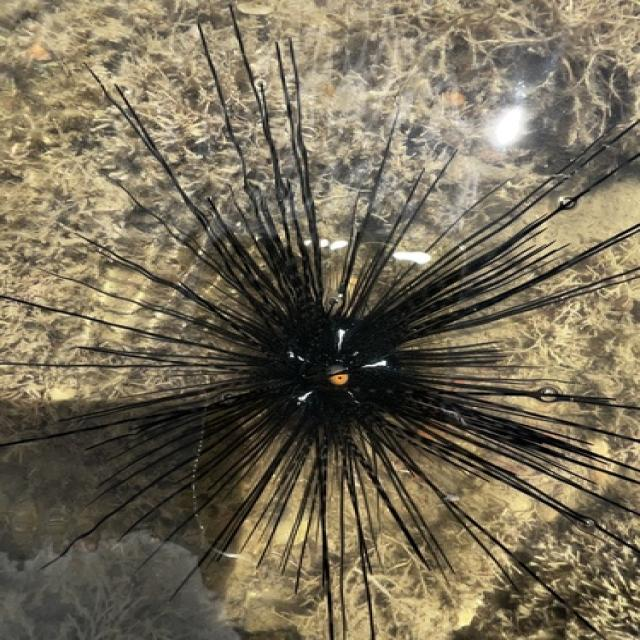Urchin: (1, 6, 640, 629)
